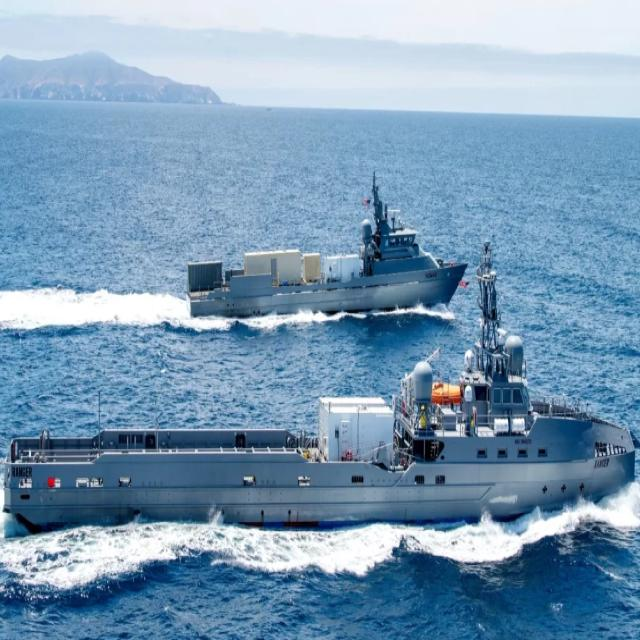navalvessels: (0, 255, 621, 522), (165, 190, 462, 316)
